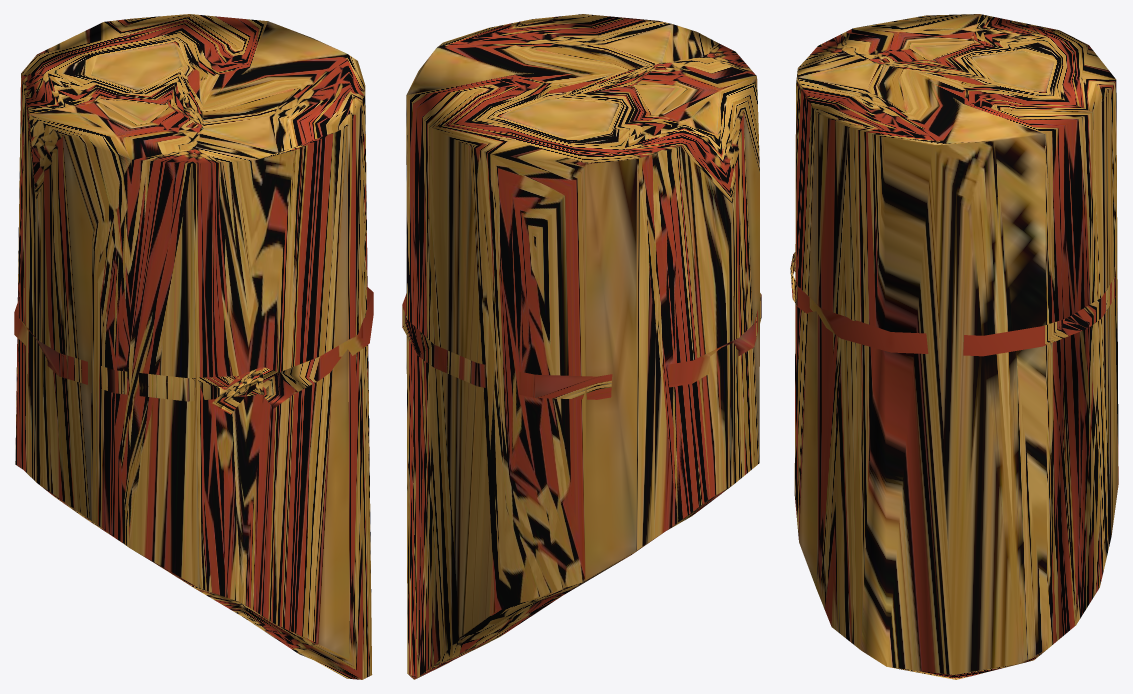
File: target_top-mobile.glb
3 views of the same model, side by side, from view 1: azimuth 30°, elevation 25°; view 2: azimuth 150°, elevation 25°; view 3: azimuth 270°, elevation 25° (orthographic). The views are drawn at different scales.
Visible parts, largest first — view 1: geometry_0; view 2: geometry_0; view 3: geometry_0.
Boxes of the visible parts, x1,y1,x2,y2 form: geometry_0: (14, 14, 373, 679); geometry_0: (402, 14, 761, 679); geometry_0: (790, 14, 1118, 679).
Bounding box in the file's own units: 0.2654 × 0.5 × 0.2728.
Materials: 1 (1 with a texture image).
